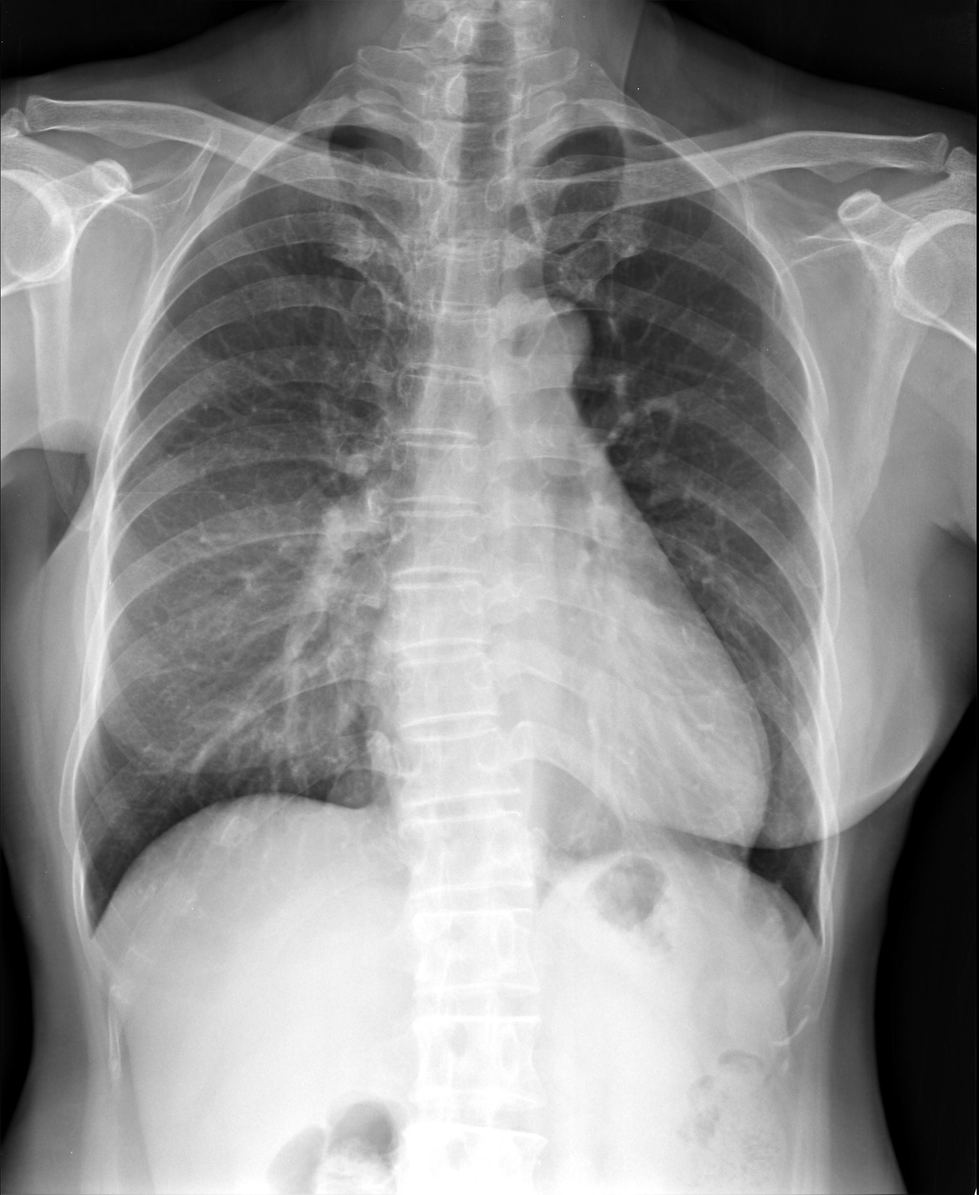Aortic enlargement: (479, 295, 595, 394)
Cardiomegaly: (359, 682, 776, 865)
Pleural thickening: (296, 119, 409, 152)
